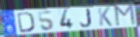4: (59, 8, 75, 31)
5: (37, 10, 55, 32)
D: (17, 11, 36, 34)
J: (79, 8, 93, 28)
K: (97, 7, 114, 27)
M: (114, 4, 137, 27)
